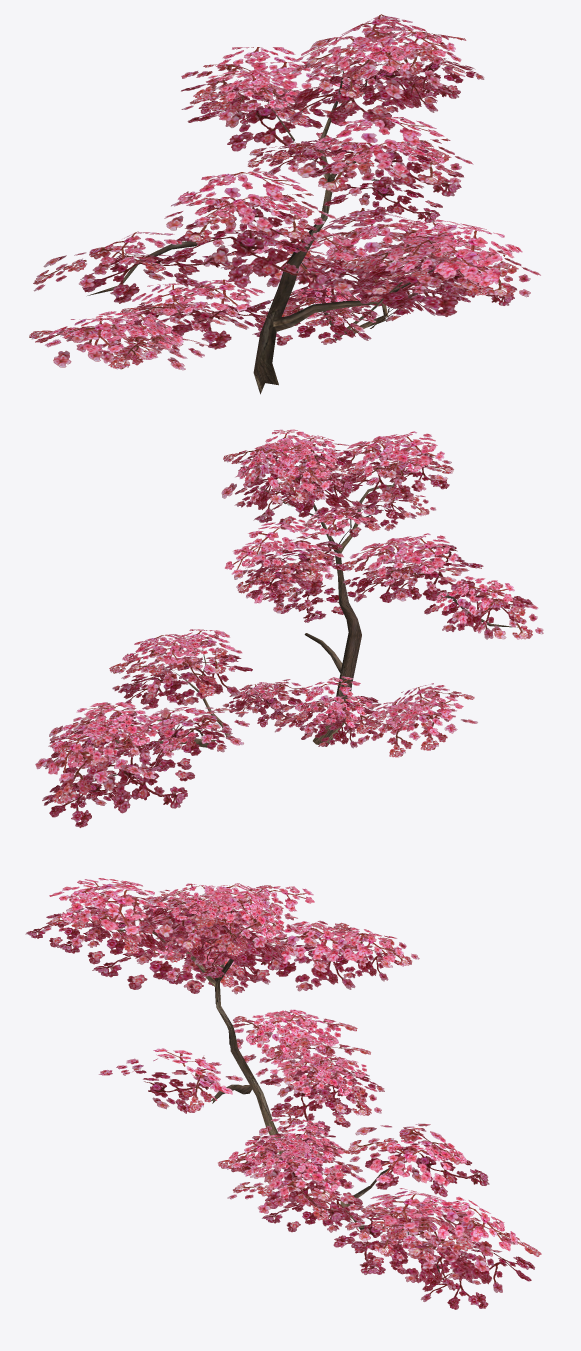
The model's file is S_Tree_Red002_H13.FBX.
3 renders of one model, top to bottom at view 1: azimuth 30°, elevation 25°; view 2: azimuth 150°, elevation 25°; view 3: azimuth 270°, elevation 25°, orthographic. The views are drawn at different scales.
Visible parts, largest first — view 1: S_Tree_Red002_H13; view 2: S_Tree_Red002_H13; view 3: S_Tree_Red002_H13.
Part boxes in pixels (x1,y1,x2,y2): S_Tree_Red002_H13: (29,14,540,394); S_Tree_Red002_H13: (35,429,543,827); S_Tree_Red002_H13: (25,878,541,1309).
Size of the model in its own units: 1171 by 796 by 1118.
